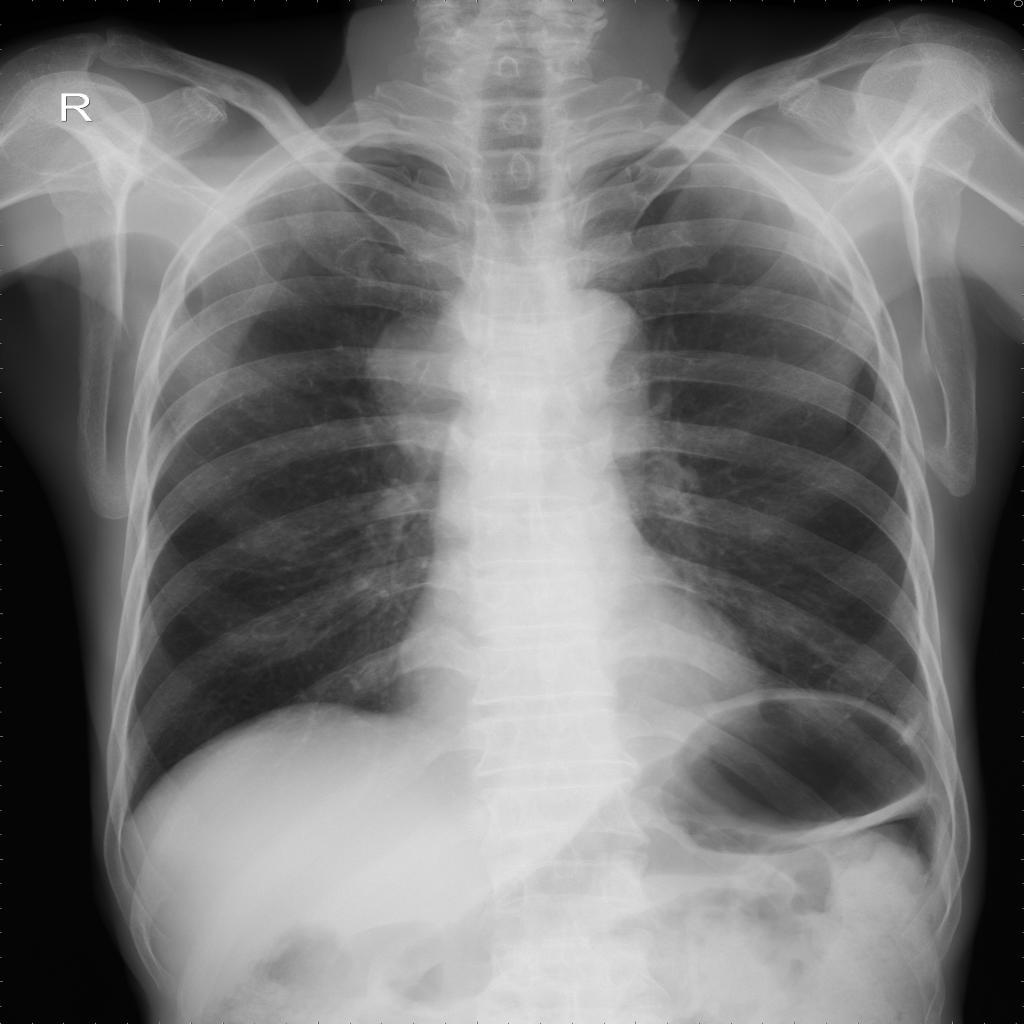Nodule: (367, 306, 480, 465)
